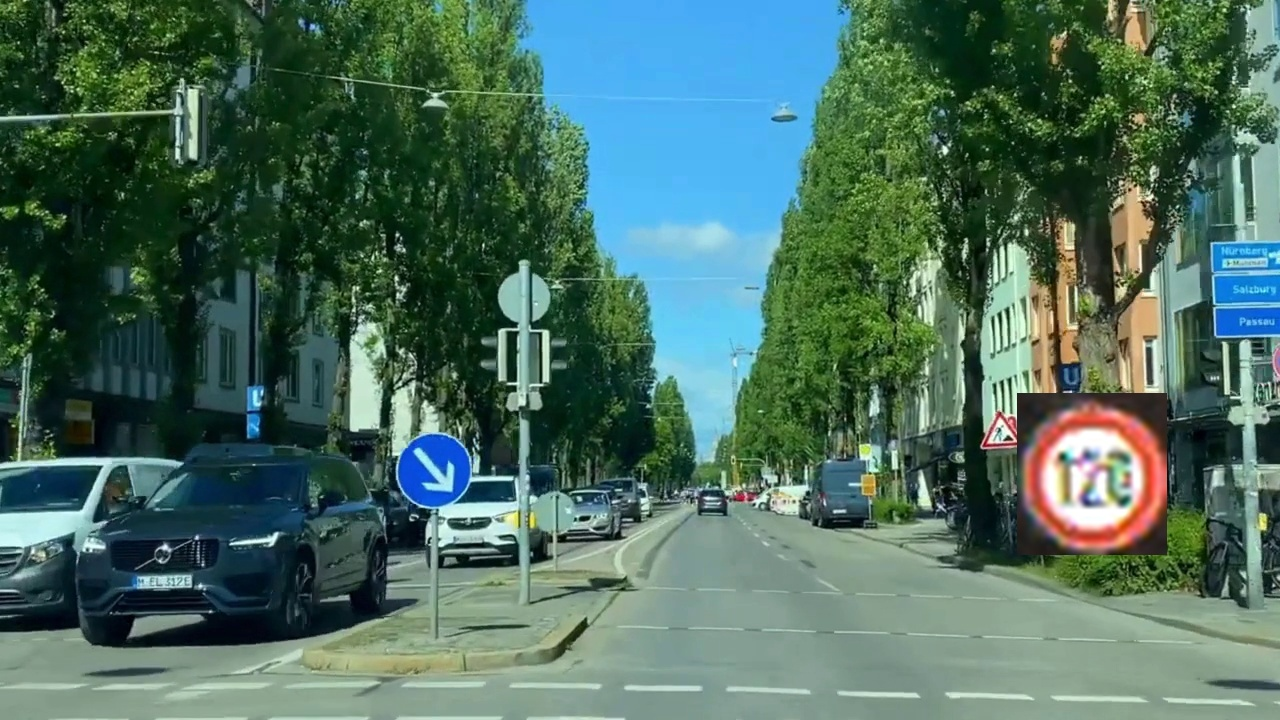Speed 120: (1017, 393, 1167, 555)
